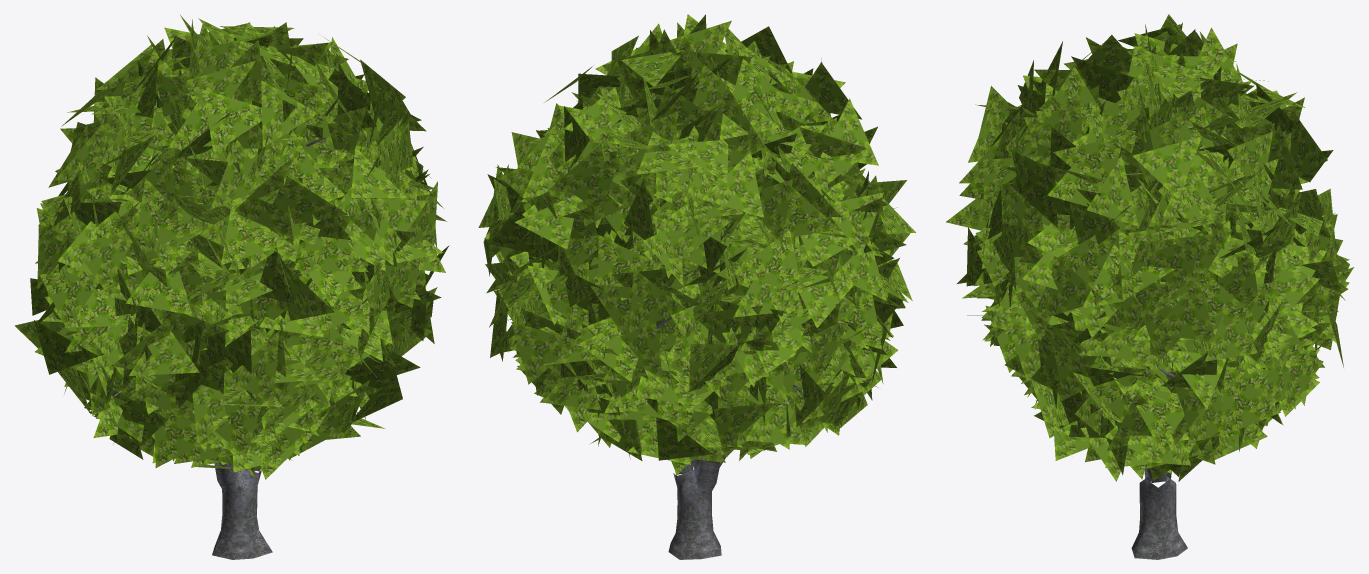
File: Platanus_Occidentalis_Spring_Adult.glb
3 renders of one model, left to right at view 1: azimuth 30°, elevation 25°; view 2: azimuth 150°, elevation 25°; view 3: azimuth 270°, elevation 25°, orthographic. The views are drawn at different scales.
Parts seen in each view (by area): view 1: Platanus_Occidentalis_Spring_Adult__LOD3; view 2: Platanus_Occidentalis_Spring_Adult__LOD3; view 3: Platanus_Occidentalis_Spring_Adult__LOD3.
Boxes of the visible parts, x1,y1,x2,y2 form: Platanus_Occidentalis_Spring_Adult__LOD3: (15,15,449,559); Platanus_Occidentalis_Spring_Adult__LOD3: (478,14,915,559); Platanus_Occidentalis_Spring_Adult__LOD3: (946,14,1353,559).
Size of the model in its own units: 22.56 by 28.61 by 20.75.
2 materials, 2 textured.
